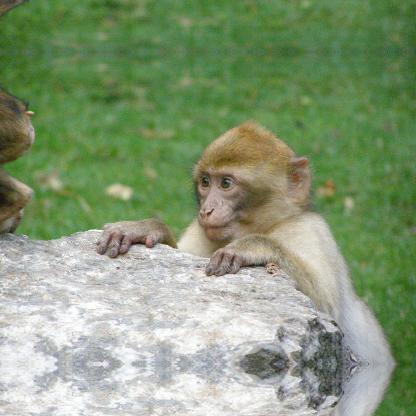Monkey: (112, 126, 414, 353)
